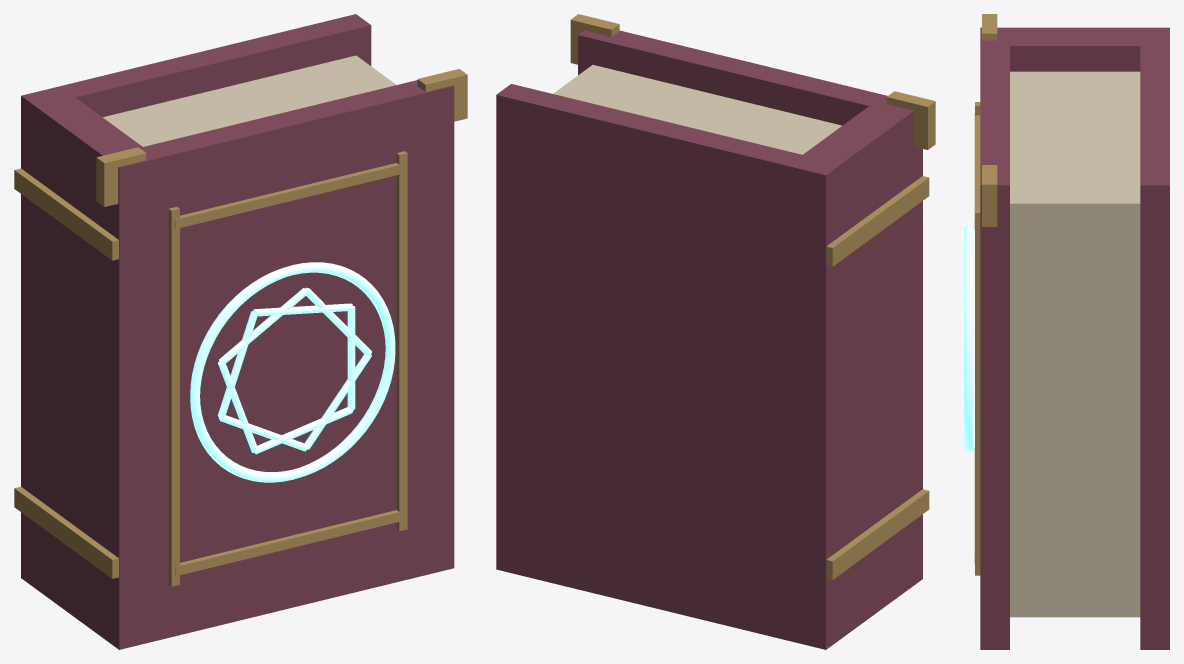
The model's file is grimoire-creative-3d.glb.
3 views of the same model, side by side, from view 1: azimuth 30°, elevation 25°; view 2: azimuth 150°, elevation 25°; view 3: azimuth 270°, elevation 25° (orthographic). The views are drawn at different scales.
Parts seen in each view (by area): view 1: Grimoire_5_red, Grimoire_5_gold, Grimoire_5_glow, Grimoire_5_paper; view 2: Grimoire_5_red, Grimoire_5_paper, Grimoire_5_gold; view 3: Grimoire_5_paper, Grimoire_5_red, Grimoire_5_gold, Grimoire_5_glow.
Boxes of the visible parts, x1,y1,x2,y2 form: Grimoire_5_red: (21, 14, 454, 649); Grimoire_5_gold: (14, 69, 467, 586); Grimoire_5_glow: (190, 262, 395, 482); Grimoire_5_paper: (103, 55, 396, 146); Grimoire_5_red: (496, 30, 922, 649); Grimoire_5_paper: (553, 65, 841, 154); Grimoire_5_gold: (570, 14, 935, 579); Grimoire_5_paper: (1010, 71, 1140, 617); Grimoire_5_red: (980, 27, 1169, 649); Grimoire_5_gold: (974, 14, 997, 575); Grimoire_5_glow: (964, 224, 973, 452).
Bounding box in the file's own units: 0.52 × 0.67 × 0.2651.
